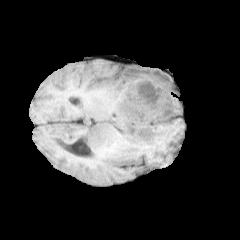glioma: (88, 67, 181, 159)
